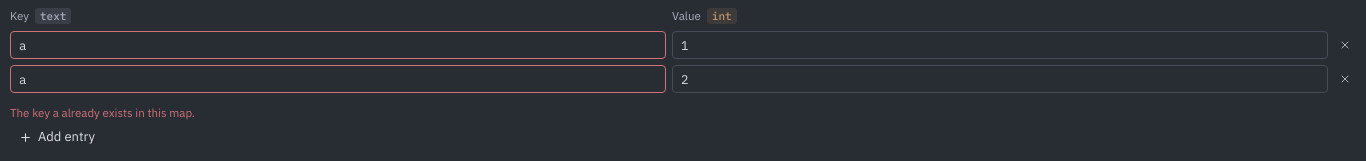
MapEditor › clears the duplicate error once the keys differ
Type "b" into the field named "Key 1".
click(338, 79); type("b")  # box [10, 65, 666, 93]
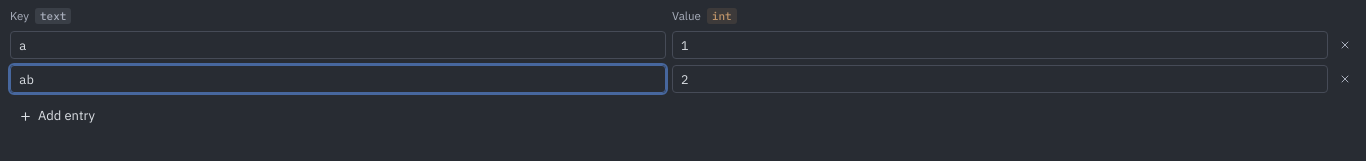
Result: the message "The key a already exists in this map." is gone
